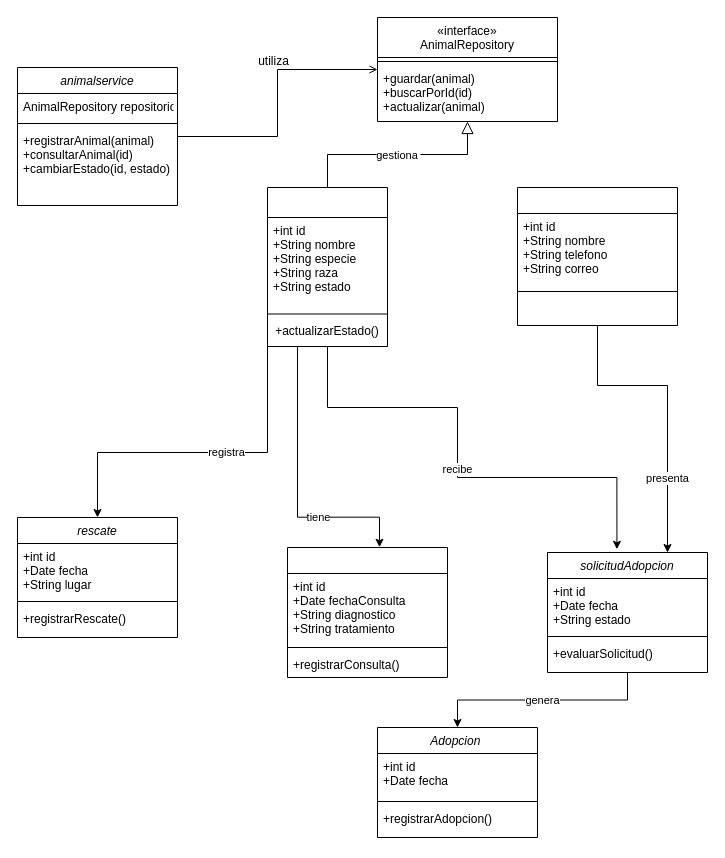
Image size: 725x858. Some labels were removed from this diagram. Each missing label, with the box of its shape:
adoptante: (516, 186, 678, 326)
animal: (266, 186, 388, 346)
historialVeterinario: (286, 546, 448, 678)
